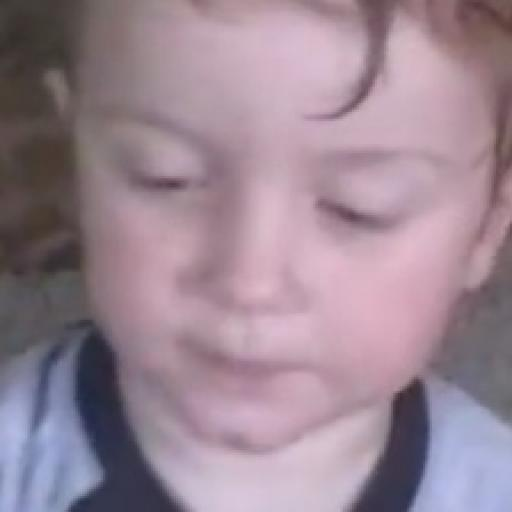Autism: (40, 0, 502, 490)
